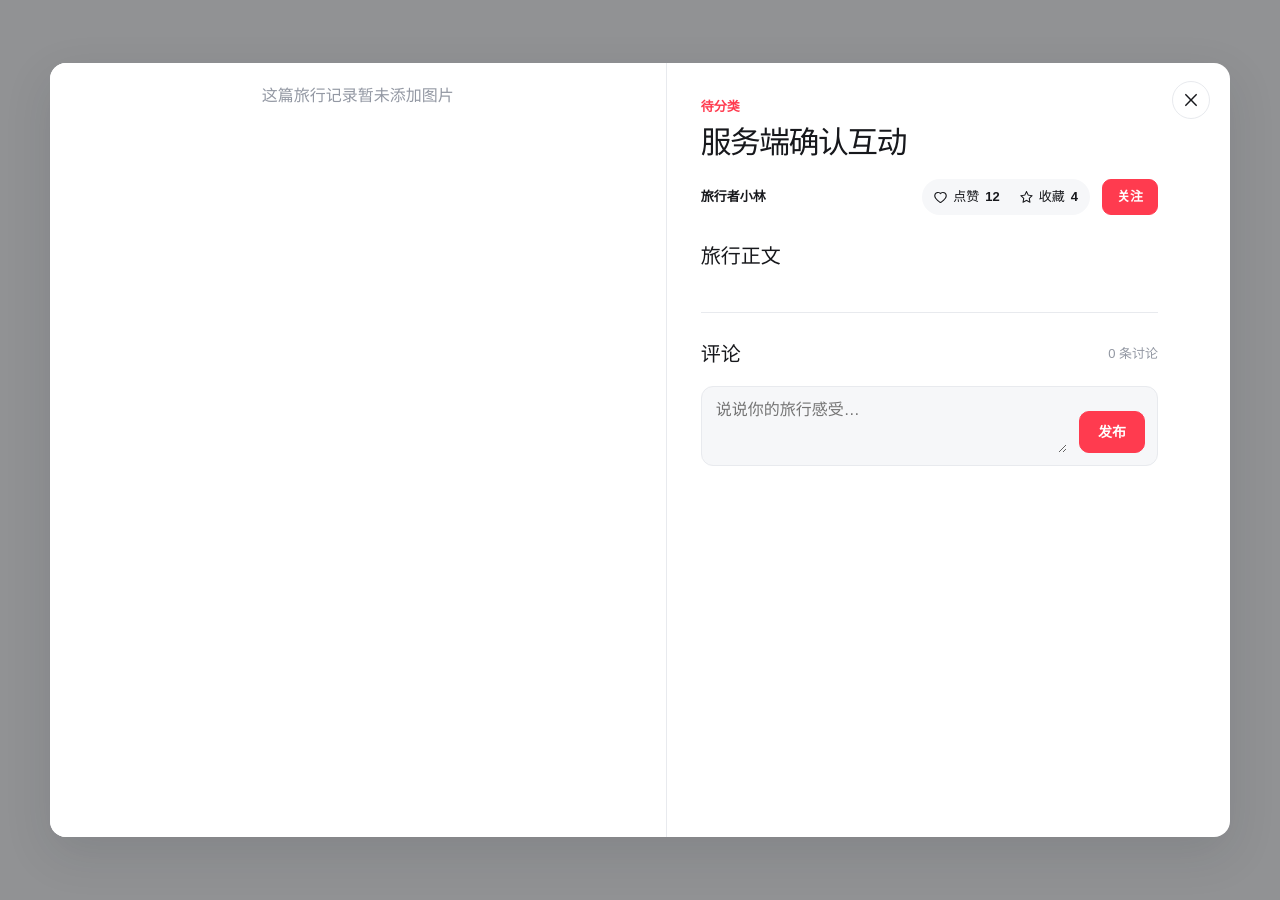
Scenario: 帖子详情 › 点赞成功后只采用服务端确认的 active 状态和正式计数
Click the button with aria-label "点赞".
click(967, 197)  # box [925,182,1009,212]
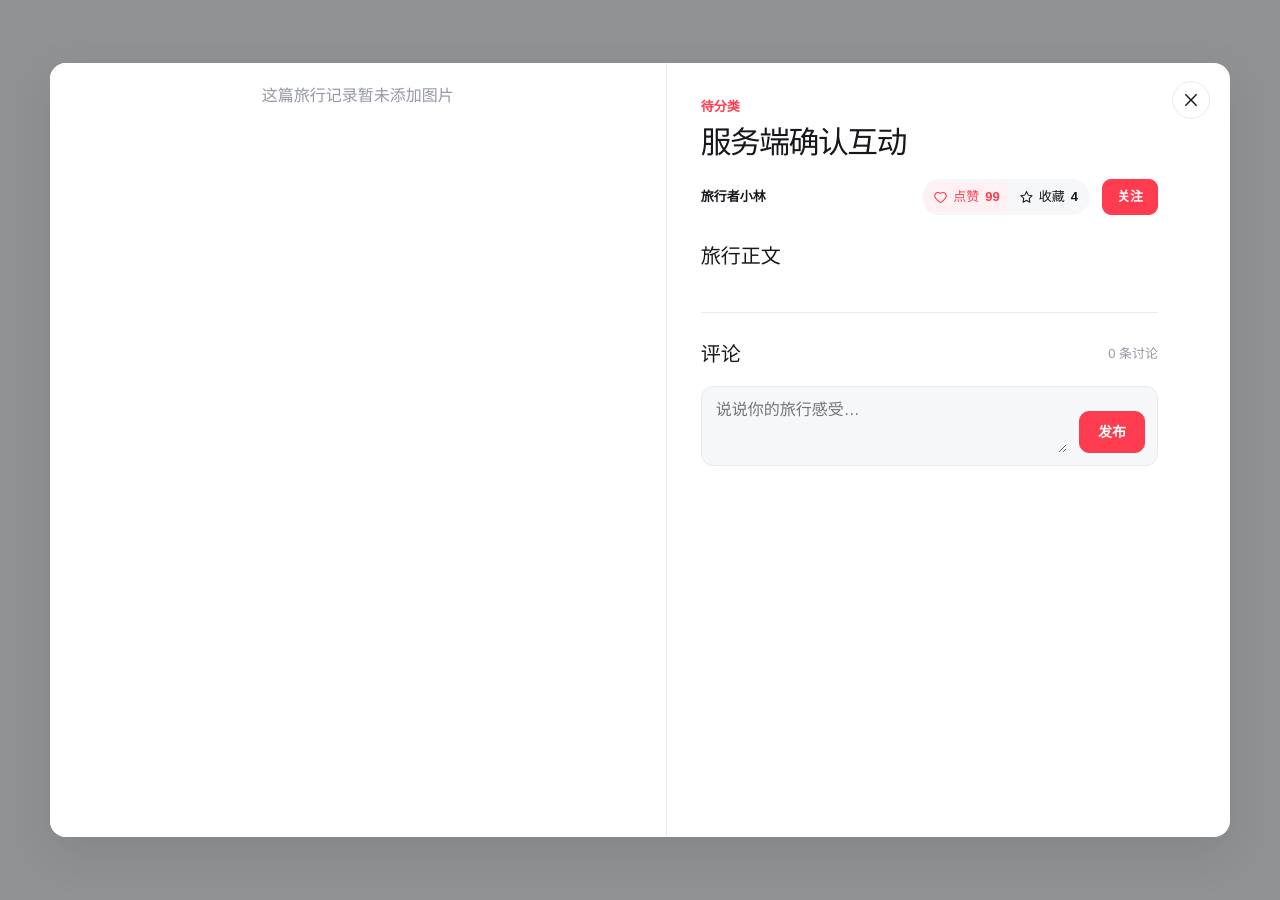
Result: the button with aria-label "点赞" shows "99" at [925,182,1009,212]
